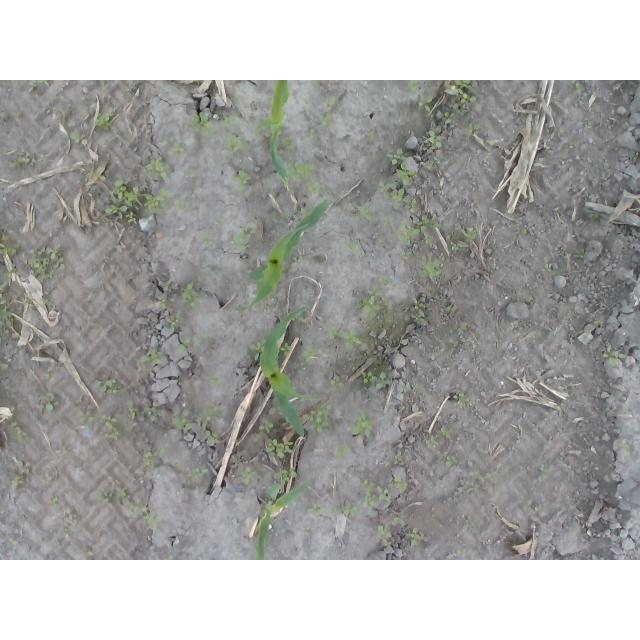Maize: (237, 198, 332, 310), (260, 304, 320, 437), (255, 477, 313, 560), (250, 81, 290, 188)
Weeds: (100, 179, 145, 226), (28, 245, 66, 284), (355, 285, 389, 320), (387, 147, 417, 185), (276, 160, 316, 187), (449, 228, 478, 260), (326, 326, 363, 350), (303, 404, 332, 433), (379, 182, 409, 210), (186, 113, 218, 136), (467, 470, 497, 494), (230, 226, 256, 253), (393, 221, 419, 247), (419, 254, 446, 279), (223, 135, 250, 160), (144, 190, 172, 214), (350, 413, 376, 438), (196, 403, 221, 429), (136, 349, 165, 371), (266, 438, 295, 459), (146, 156, 171, 180), (361, 479, 378, 513), (101, 413, 123, 439), (12, 459, 31, 489), (361, 371, 391, 390), (181, 283, 203, 308), (453, 93, 476, 116), (10, 150, 38, 168), (109, 476, 129, 501), (95, 378, 125, 394), (94, 106, 114, 130), (163, 138, 185, 159), (602, 347, 627, 365), (0, 235, 20, 256), (232, 170, 252, 191), (418, 94, 435, 118), (274, 468, 298, 485), (172, 410, 192, 430), (35, 392, 55, 412), (9, 419, 27, 441), (411, 296, 426, 321), (249, 340, 266, 361), (418, 215, 440, 231), (301, 345, 320, 363), (389, 476, 408, 493), (67, 131, 88, 146), (450, 80, 472, 94), (144, 513, 161, 531), (407, 527, 424, 545), (334, 445, 351, 462), (220, 114, 238, 130), (452, 391, 472, 405), (0, 306, 14, 326), (88, 165, 105, 181), (240, 467, 256, 484), (356, 205, 374, 220), (467, 122, 482, 140), (145, 406, 161, 422), (377, 486, 392, 503), (77, 409, 95, 423), (188, 467, 209, 479), (169, 314, 182, 333), (142, 451, 155, 470), (318, 113, 335, 127), (97, 487, 111, 504), (307, 504, 325, 517), (199, 233, 214, 248), (331, 377, 346, 392), (259, 419, 274, 434), (427, 131, 441, 147), (342, 503, 358, 517), (377, 523, 392, 537), (129, 504, 148, 515), (206, 374, 223, 386), (205, 429, 219, 443), (196, 329, 209, 344), (284, 136, 296, 152), (173, 198, 185, 214), (307, 181, 320, 195), (346, 240, 358, 255), (437, 426, 452, 438), (406, 80, 421, 92), (393, 514, 408, 526), (289, 311, 305, 322), (621, 439, 631, 456), (179, 338, 192, 351), (446, 455, 459, 468), (280, 341, 292, 355), (29, 80, 50, 88), (1, 280, 8, 304), (48, 496, 62, 508), (128, 407, 140, 420), (426, 436, 438, 449), (442, 112, 455, 124), (469, 339, 483, 350), (156, 295, 166, 309), (270, 210, 280, 224), (397, 251, 412, 260), (154, 446, 166, 457), (3, 269, 17, 278), (39, 298, 53, 307), (307, 128, 318, 139), (573, 83, 584, 94), (382, 215, 394, 225), (323, 95, 335, 105), (23, 292, 33, 304), (394, 452, 403, 465), (185, 167, 196, 177), (382, 539, 392, 550), (542, 264, 554, 273), (164, 278, 173, 290), (215, 217, 225, 227), (540, 467, 549, 478), (368, 131, 377, 142), (47, 106, 58, 115), (450, 337, 459, 348), (411, 199, 418, 213), (444, 307, 457, 314), (294, 255, 303, 265), (578, 248, 587, 258), (425, 161, 435, 170), (301, 207, 310, 217), (589, 212, 600, 220), (565, 142, 576, 150), (378, 274, 389, 282), (458, 324, 466, 335), (10, 111, 22, 118), (399, 383, 408, 392), (254, 433, 262, 443), (465, 518, 475, 526), (87, 324, 103, 329), (294, 214, 302, 223), (44, 373, 52, 382), (0, 361, 8, 370), (528, 296, 535, 306), (377, 236, 385, 244), (163, 554, 173, 560), (584, 123, 592, 130), (521, 229, 529, 236), (425, 237, 433, 244), (303, 528, 310, 536), (594, 319, 603, 325), (1, 337, 4, 344)
